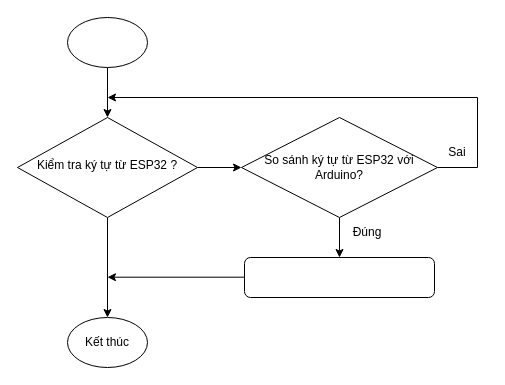
The diagram is 505 pixels wide and 385 high, and some of its shapes have lost their labels. The centre of each missing label's shape, as x and y in pixels:
Bắt đầu: the point at 107,42
Xuất giá trị tương ứng điều khiển thiết bị: the point at 339,277
